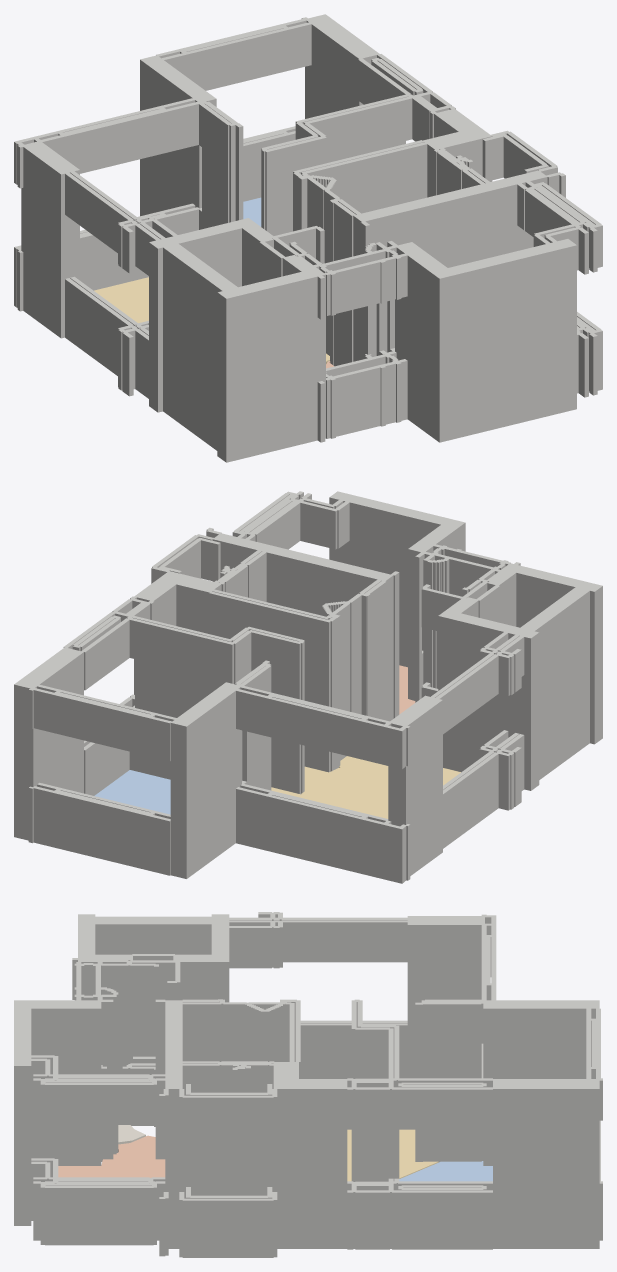
3 renders of one model, top to bottom at view 1: azimuth 30°, elevation 25°; view 2: azimuth 150°, elevation 25°; view 3: azimuth 270°, elevation 25°, orthographic. The views are drawn at different scales.
Parts seen in each view (by area): view 1: walls, room:living:0; view 2: walls, room:living:0, room:bedroom:1; view 3: walls, room:kitchen:6, room:bedroom:1, room:living:0.
Boxes of the visible parts, x1=… form: walls: x1=14, y1=14, x2=602, y2=462; room:living:0: x1=94, y1=277, x2=329, y2=363; walls: x1=14, y1=491, x2=602, y2=883; room:living:0: x1=271, y1=756, x2=460, y2=818; room:bedroom:1: x1=94, y1=770, x2=170, y2=814; walls: x1=14, y1=912, x2=602, y2=1257; room:kitchen:6: x1=58, y1=1135, x2=165, y2=1177; room:bedroom:1: x1=399, y1=1161, x2=492, y2=1181; room:living:0: x1=347, y1=1129, x2=438, y2=1181.
Size of the model in its own units: 6.96 by 2.8 by 9.33.
